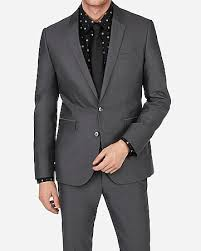F_M_suit jacket: (32, 1, 179, 191)
